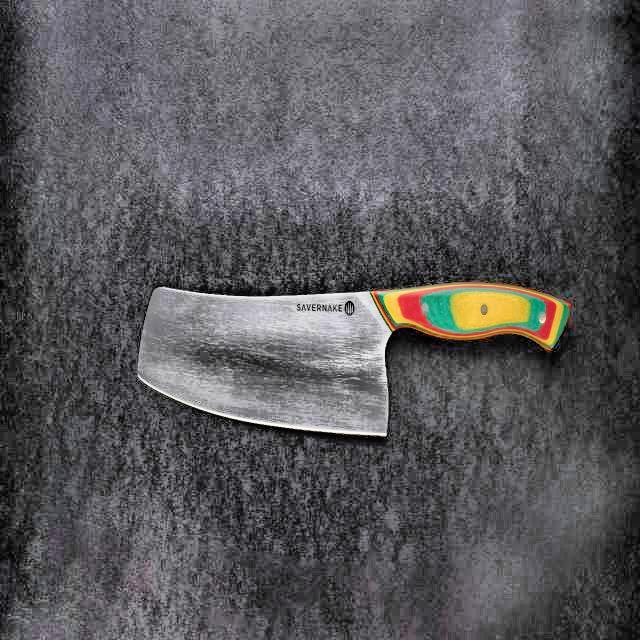knife: (128, 265, 573, 439)
